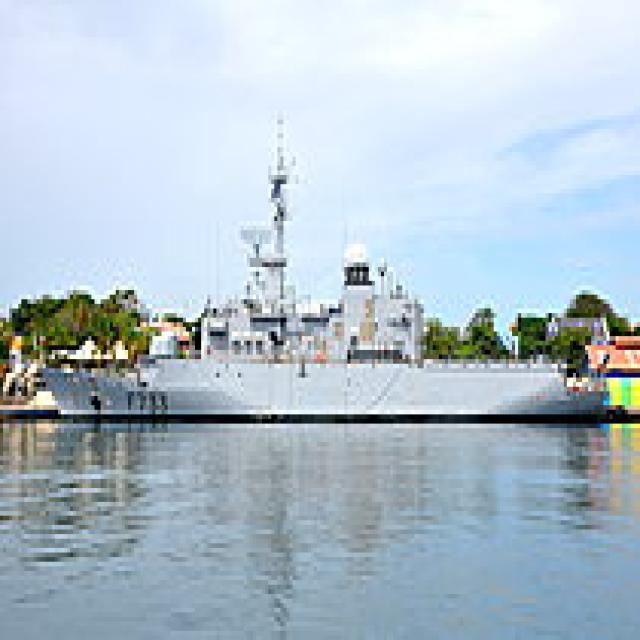Warship: (31, 96, 610, 424)
